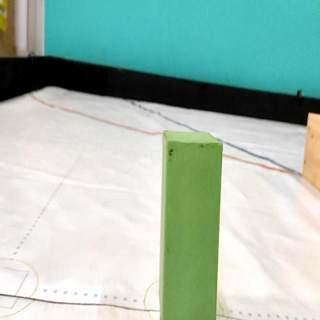greenbox: (162, 133, 224, 320)
